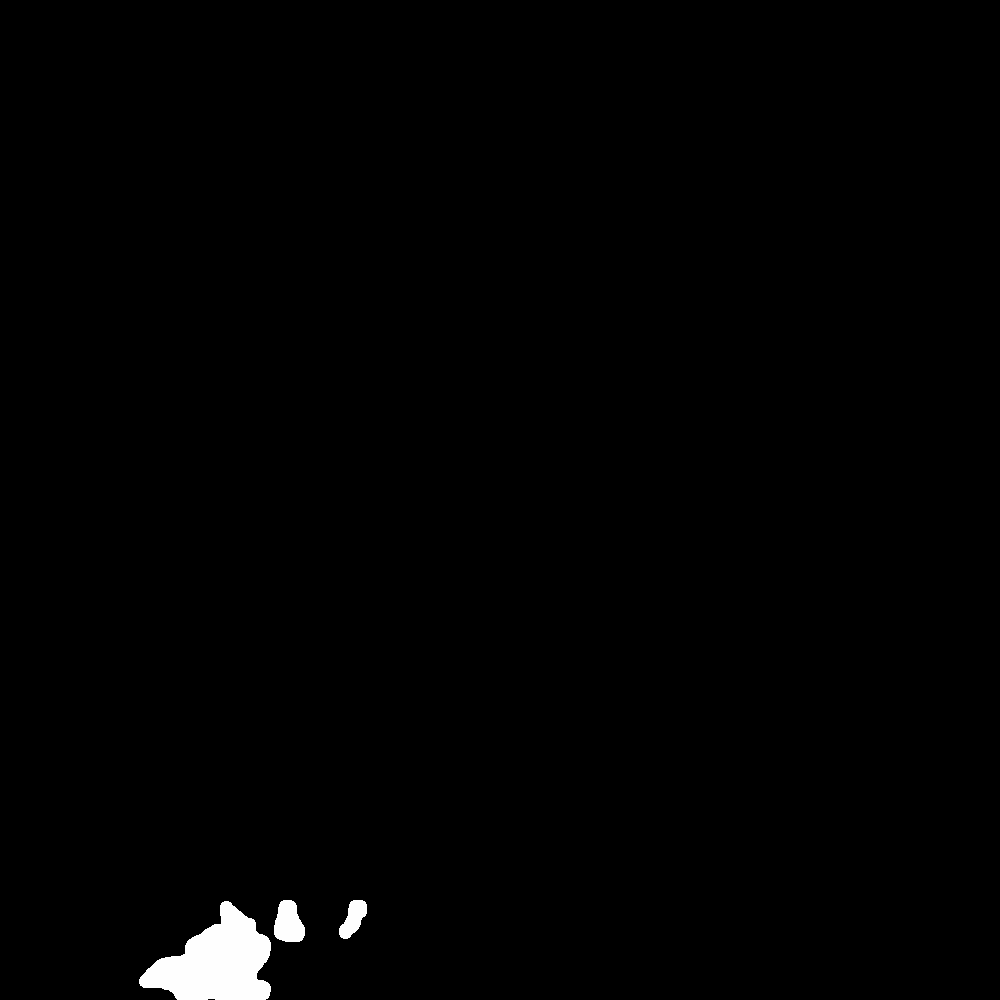illegal: (144, 899, 368, 1000)
